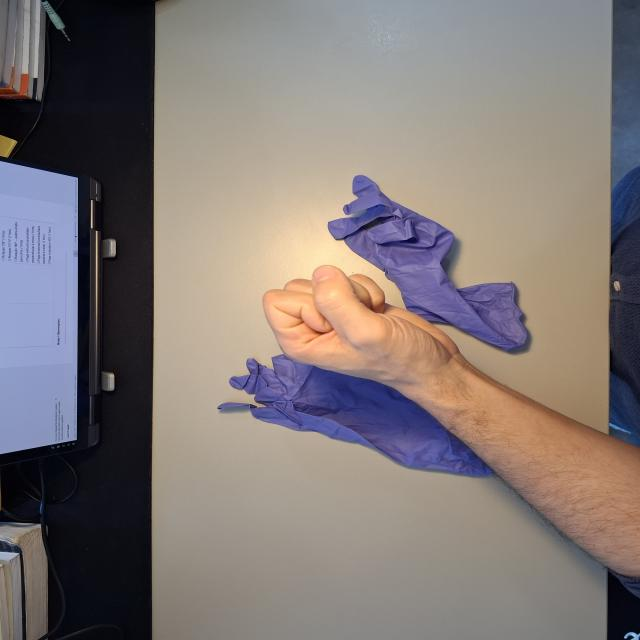glove_off: (259, 263, 465, 395)
